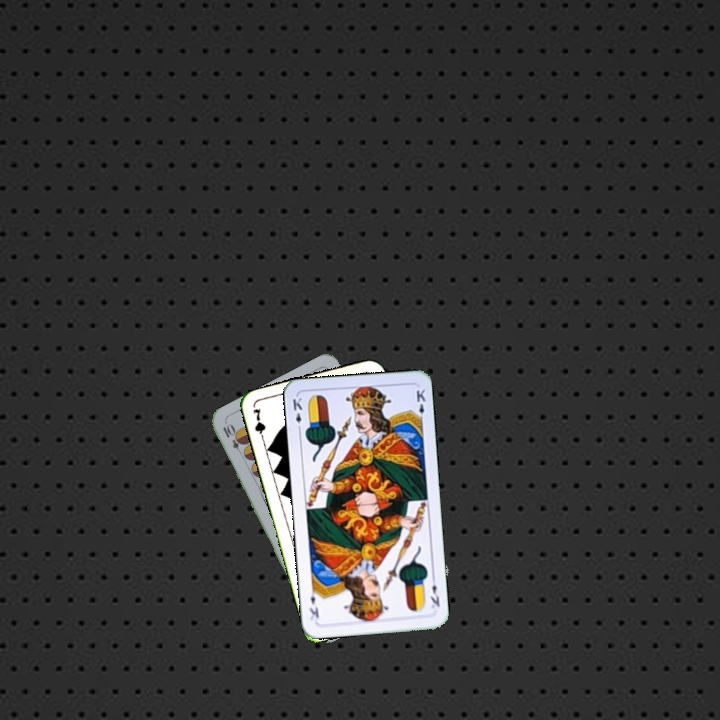E10: (219, 420, 247, 458)
EK: (289, 394, 305, 434), (426, 573, 442, 611)
G7: (249, 404, 268, 445)
